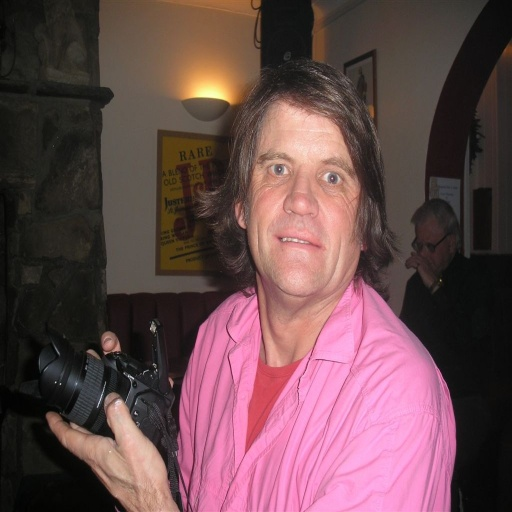hand: (44, 387, 169, 511), (83, 328, 176, 392), (402, 250, 439, 292)
